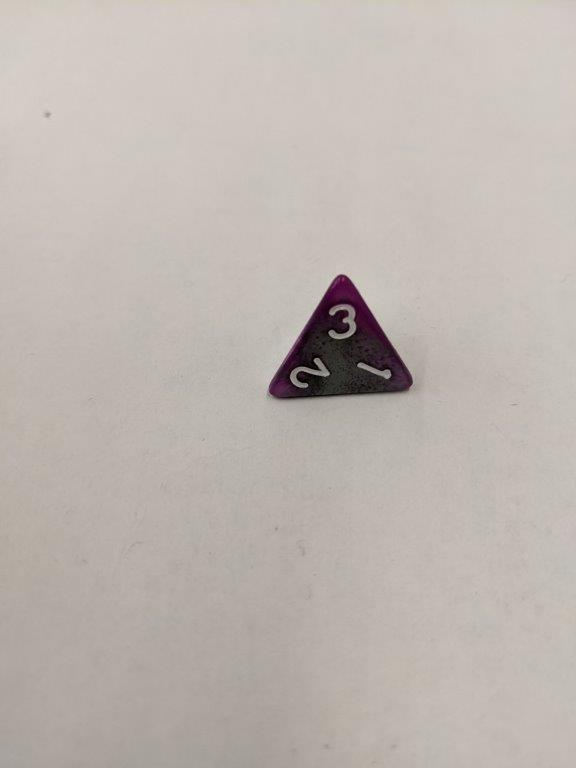d4-3: (264, 265, 416, 405)
